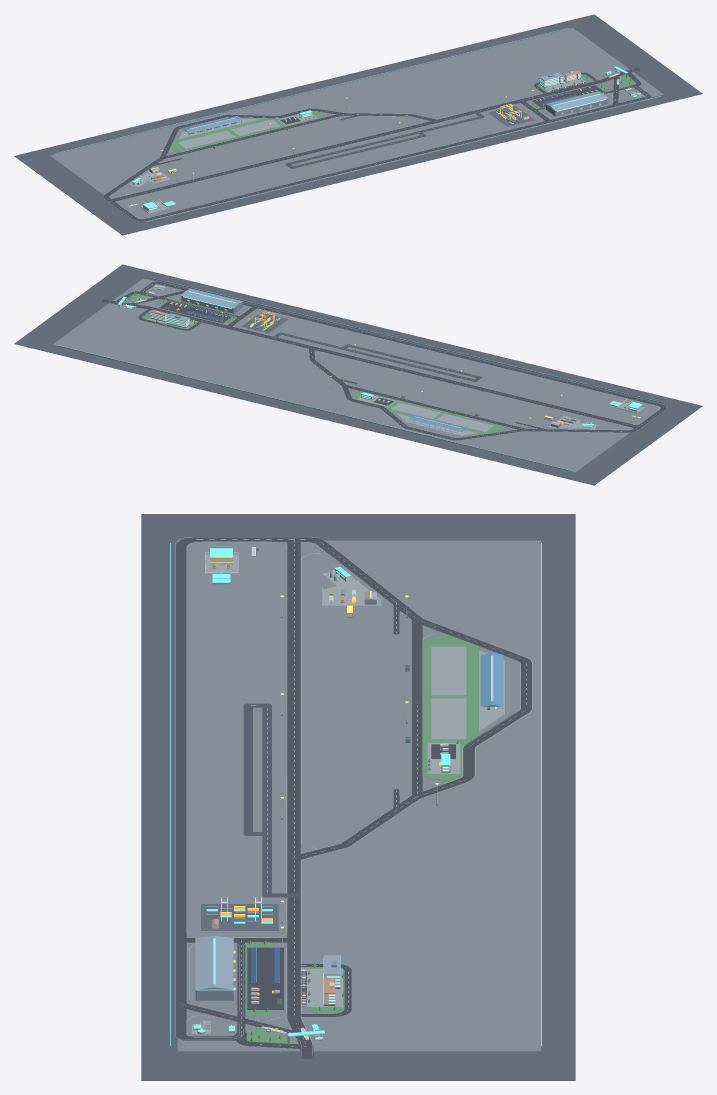
File: site-shell-v4-medium.glb
3 renders of one model, top to bottom at view 1: azimuth 30°, elevation 25°; view 2: azimuth 150°, elevation 25°; view 3: azimuth 270°, elevation 25°, orthographic. The views are drawn at different scales.
Parts seen in each view (by area): view 1: site-shell-v4-v5_site_apron, site-shell-v4-v5_site_ground, site-shell-v4-v5_site_asphalt, site-shell-v4-v5_site_plaza, site-shell-v4-v5_bldg_wall, site-shell-v4-v5_site_curb, site-shell-v4-v5_landscape_grass, site-shell-v4-v5_silo_asphalt, site-shell-v4-v5_site_cyan, site-shell-v4-v5_site_dark, site-shell-v4-v5_bldg_roof, site-shell-v4-v5_office_facade (+1 smaller); view 2: site-shell-v4-v5_site_apron, site-shell-v4-v5_site_ground, site-shell-v4-v5_site_asphalt, site-shell-v4-v5_bldg_wall, site-shell-v4-v5_site_plaza, site-shell-v4-v5_site_curb, site-shell-v4-v5_landscape_grass, site-shell-v4-v5_silo_asphalt, site-shell-v4-v5_site_cyan, site-shell-v4-v5_site_dark, site-shell-v4-v5_bldg_roof, site-shell-v4-v5_office_facade (+2 smaller); view 3: site-shell-v4-v5_site_apron, site-shell-v4-v5_site_ground, site-shell-v4-v5_site_asphalt, site-shell-v4-v5_site_plaza, site-shell-v4-v5_landscape_grass, site-shell-v4-v5_site_curb, site-shell-v4-v5_silo_asphalt, site-shell-v4-v5_bldg_roof, site-shell-v4-v5_site_dark, site-shell-v4-v5_site_cyan, site-shell-v4-v5_shed_blue, site-shell-v4-v5_bldg_wall (+1 smaller).
Part boxes in pixels (x1,y1,x2,y2): site-shell-v4-v5_site_apron: (50,28,663,221); site-shell-v4-v5_site_ground: (14,14,702,235); site-shell-v4-v5_site_asphalt: (103,68,651,221); site-shell-v4-v5_site_plaza: (129,78,642,212); site-shell-v4-v5_bldg_wall: (54,28,661,222); site-shell-v4-v5_site_curb: (104,68,649,221); site-shell-v4-v5_landscape_grass: (170,74,635,151); site-shell-v4-v5_silo_asphalt: (285,111,484,168); site-shell-v4-v5_site_cyan: (54,28,660,221); site-shell-v4-v5_site_dark: (128,74,627,206); site-shell-v4-v5_bldg_roof: (138,69,635,182); site-shell-v4-v5_office_facade: (132,67,635,213); site-shell-v4-v5_site_apron: (52,278,665,472); site-shell-v4-v5_site_ground: (14,264,702,485); site-shell-v4-v5_site_asphalt: (102,281,666,440); site-shell-v4-v5_bldg_wall: (56,277,664,471); site-shell-v4-v5_site_plaza: (147,285,643,435); site-shell-v4-v5_site_curb: (106,281,667,440); site-shell-v4-v5_landscape_grass: (123,293,502,434); site-shell-v4-v5_silo_asphalt: (271,332,481,381); site-shell-v4-v5_site_cyan: (56,277,662,470); site-shell-v4-v5_site_dark: (119,300,641,431); site-shell-v4-v5_bldg_roof: (118,286,591,425); site-shell-v4-v5_office_facade: (118,287,645,427); site-shell-v4-v5_site_apron: (177,540,541,1051); site-shell-v4-v5_site_ground: (141,514,575,1080); site-shell-v4-v5_site_asphalt: (175,536,531,1059); site-shell-v4-v5_site_plaza: (192,554,504,1034); site-shell-v4-v5_landscape_grass: (245,635,478,1044); site-shell-v4-v5_site_curb: (175,537,532,1056); site-shell-v4-v5_silo_asphalt: (243,703,298,897); site-shell-v4-v5_bldg_roof: (195,570,449,1036); site-shell-v4-v5_site_dark: (195,547,489,1042); site-shell-v4-v5_site_cyan: (170,543,541,1045); site-shell-v4-v5_shed_blue: (480,653,503,706); site-shell-v4-v5_bldg_wall: (170,546,541,1047).
Bounding box in the file's own units: 1420 × 25.61 × 460.
